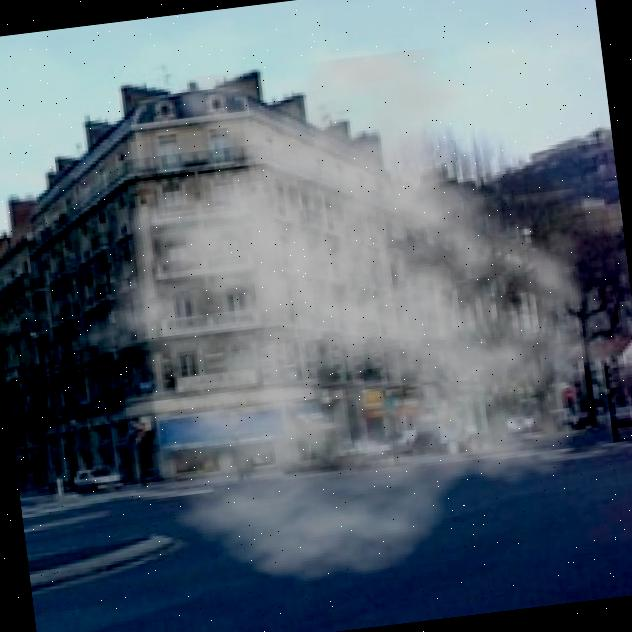smoke: (21, 30, 632, 611)
